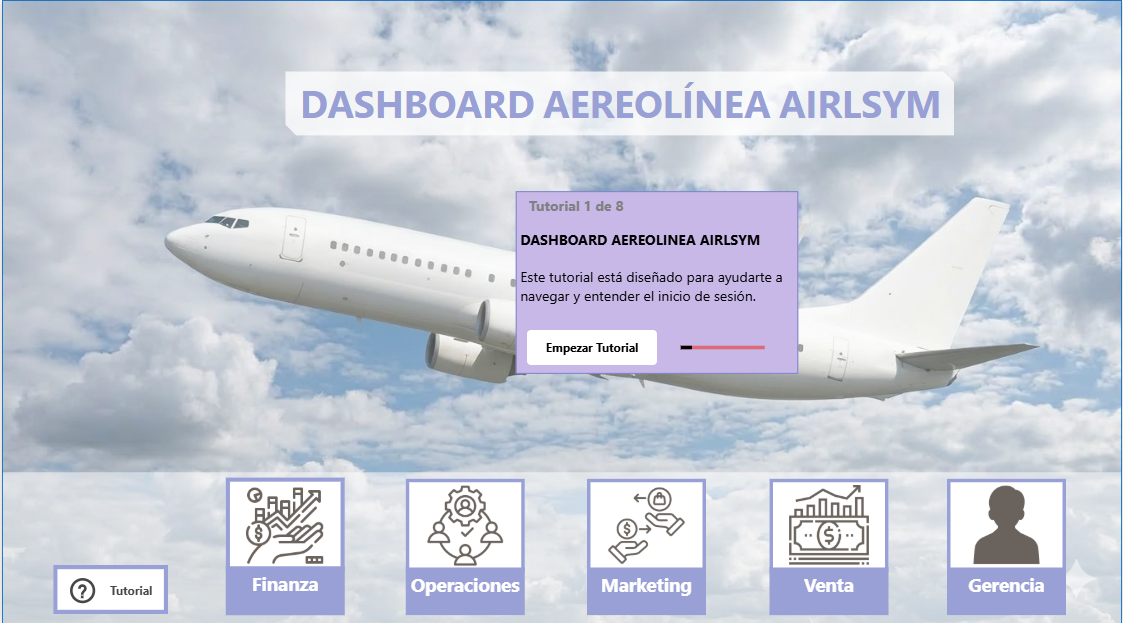

What the dashboard file says about the page in this screenshot:
{"tool":"powerbi","page":{"name":"Inicio","canvas":[1280,714],"ordinal":0},"visuals":[{"type":"textbox","box":[58.6,645.7,131.4,55.7],"z":0},{"type":"actionButton","box":[72.9,655.7,102.9,38.6],"z":18000},{"type":"textbox","box":[255.7,545.7,135.7,107.1],"z":19000},{"type":"textbox","box":[255.7,647.1,135.7,55.7],"z":20000},{"type":"textbox","box":[461.4,547.1,135.7,107.1],"z":22000},{"type":"textbox","box":[668.6,547.1,135.7,107.1],"z":23000},{"type":"textbox","box":[877.1,547.1,135.7,107.1],"z":24000},{"type":"textbox","box":[1080,547.1,135.7,107.1],"z":25000},{"type":"textbox","box":[877.1,648.6,135.7,54.3],"z":26000},{"type":"textbox","box":[461.4,648.6,135.7,54.3],"z":27000},{"type":"textbox","box":[668.6,648.6,135.7,54.3],"z":28000},{"type":"textbox","box":[1080,648.6,135.7,54.3],"z":29000},{"type":"image","box":[255.7,554.3,135.7,92.9],"z":33500},{"type":"image","box":[1080,554.3,135.7,91.4],"z":34000},{"type":"image","box":[461.4,554.3,135.7,92.9],"z":35000},{"type":"image","box":[668.6,554.3,135.7,92.9],"z":36000},{"type":"image","box":[877.1,554.3,135.7,91],"z":37000}]}

Visuals, with their boxes in screenshot pixels (x1, y1, x2, y2), scaled from the page's 1280x714 canvas onto the 1123x623 screenshot:
textbox: detection(51, 563, 167, 612)
actionButton: detection(64, 572, 154, 606)
textbox: detection(224, 476, 343, 570)
textbox: detection(224, 565, 343, 613)
textbox: detection(405, 477, 524, 571)
textbox: detection(587, 477, 706, 571)
textbox: detection(770, 477, 889, 571)
textbox: detection(948, 477, 1067, 571)
textbox: detection(770, 566, 889, 613)
textbox: detection(405, 566, 524, 613)
textbox: detection(587, 566, 706, 613)
textbox: detection(948, 566, 1067, 613)
image: detection(224, 484, 343, 565)
image: detection(948, 484, 1067, 563)
image: detection(405, 484, 524, 565)
image: detection(587, 484, 706, 565)
image: detection(770, 484, 889, 563)
